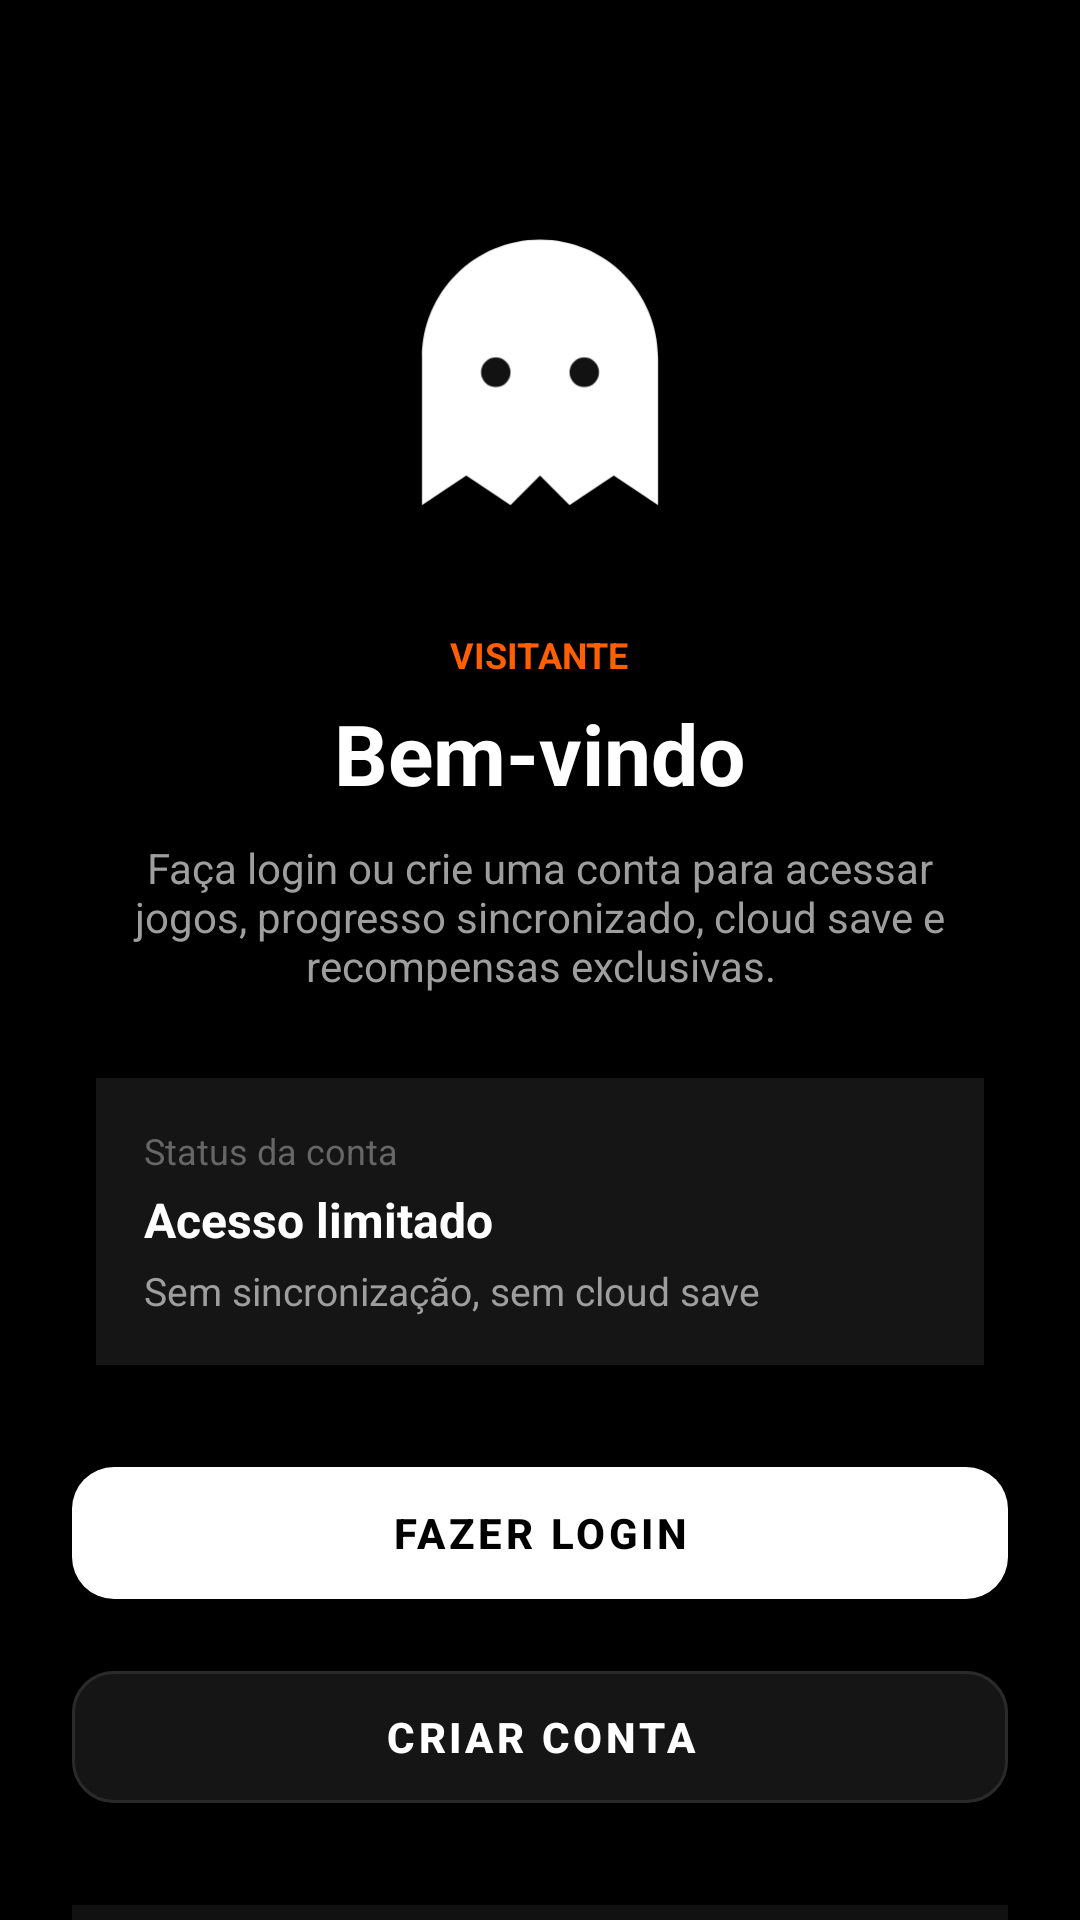

Locate icon controls on the screen. Image size 1080px×1920px, boxes as bbox(x1, y1, x2, y2).
profile ghost: bbox(421, 239, 659, 505)
